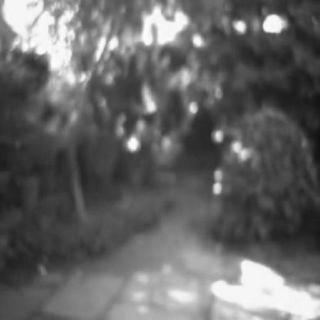other: (3, 1, 299, 63)
